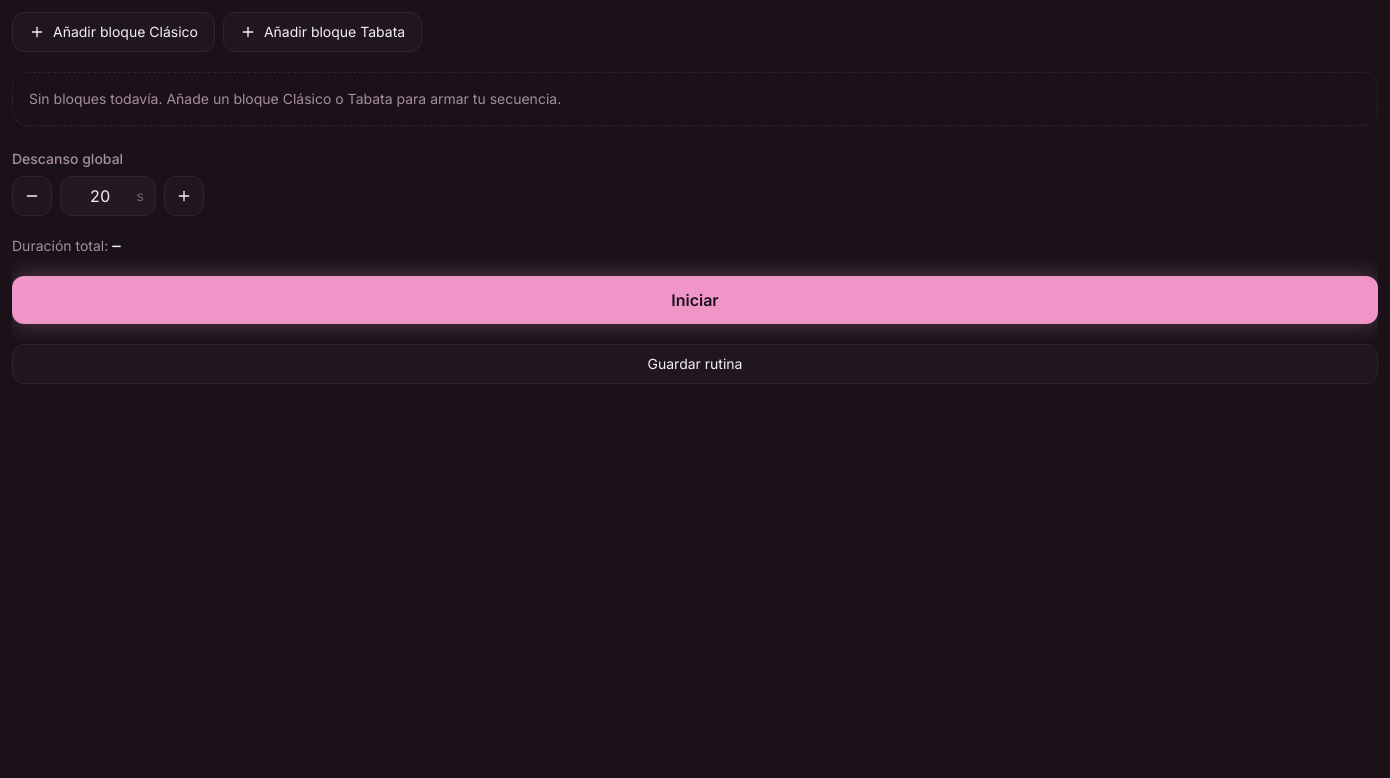
it: PersonalizadoBuilder — estado y UI de bloques › elimina un bloque y deja los demás intactos
The width and height of the screenshot is (1390, 778).
Click the button "Añadir bloque Clásico" at (113, 32), box [12,12,215,52]
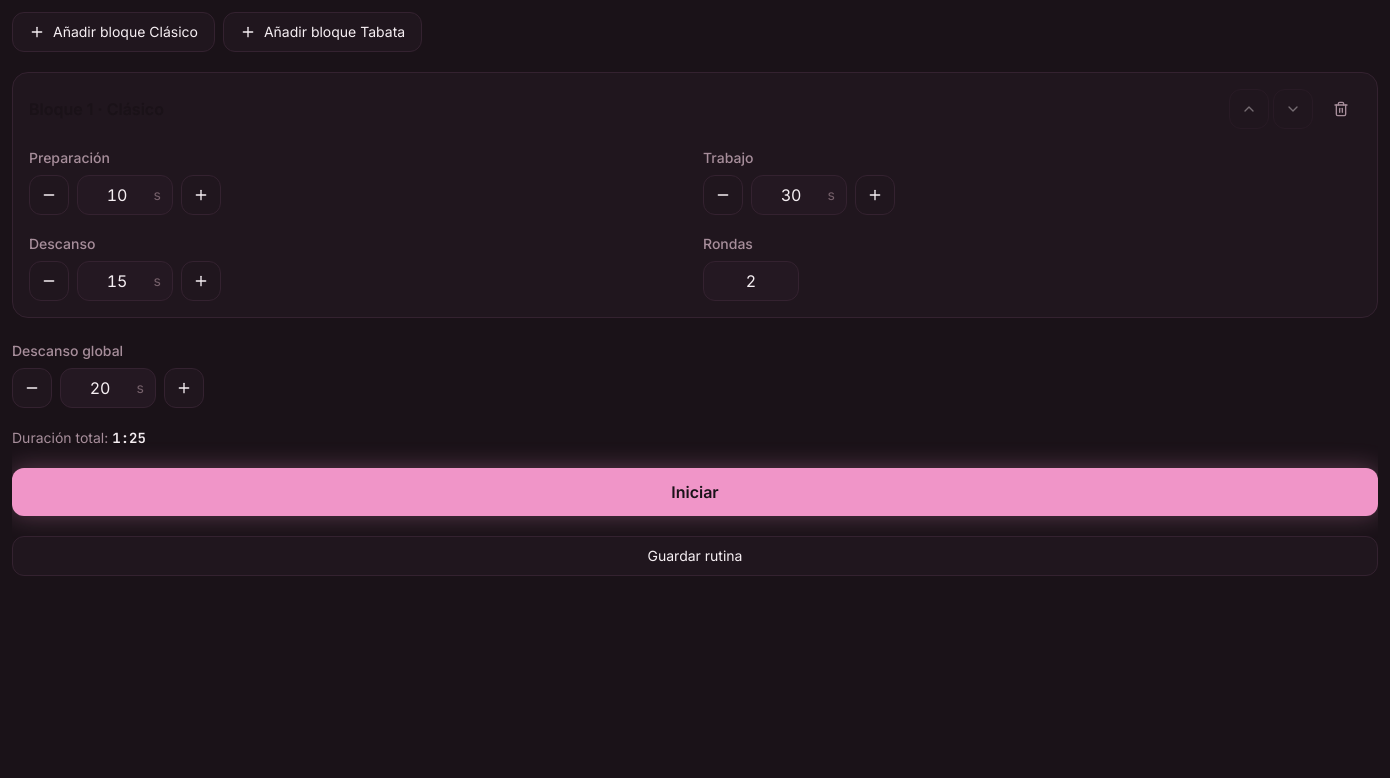
Click the button "Añadir bloque Tabata" at (322, 32), box [223,12,422,52]
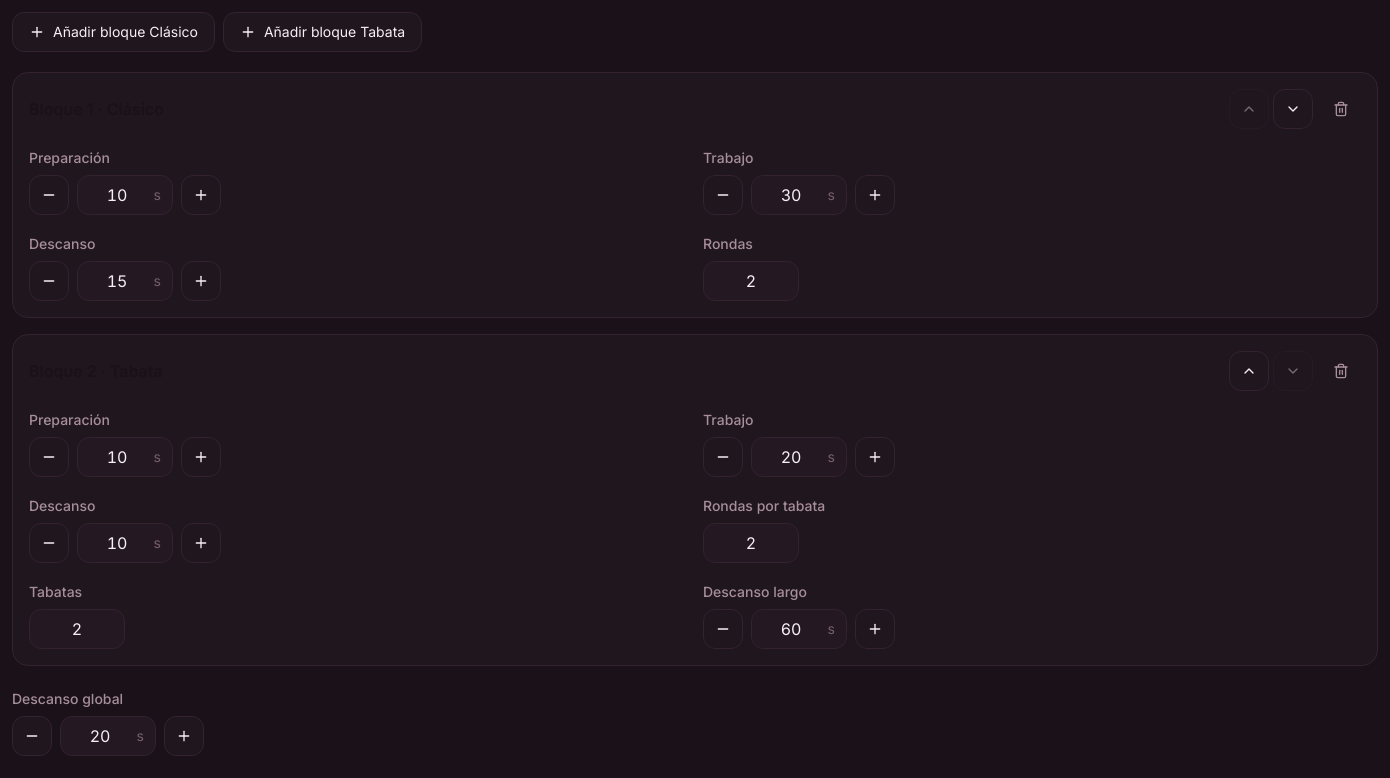
Click the button named "Eliminar bloque 1" at (1341, 109), box [1321,89,1361,129]
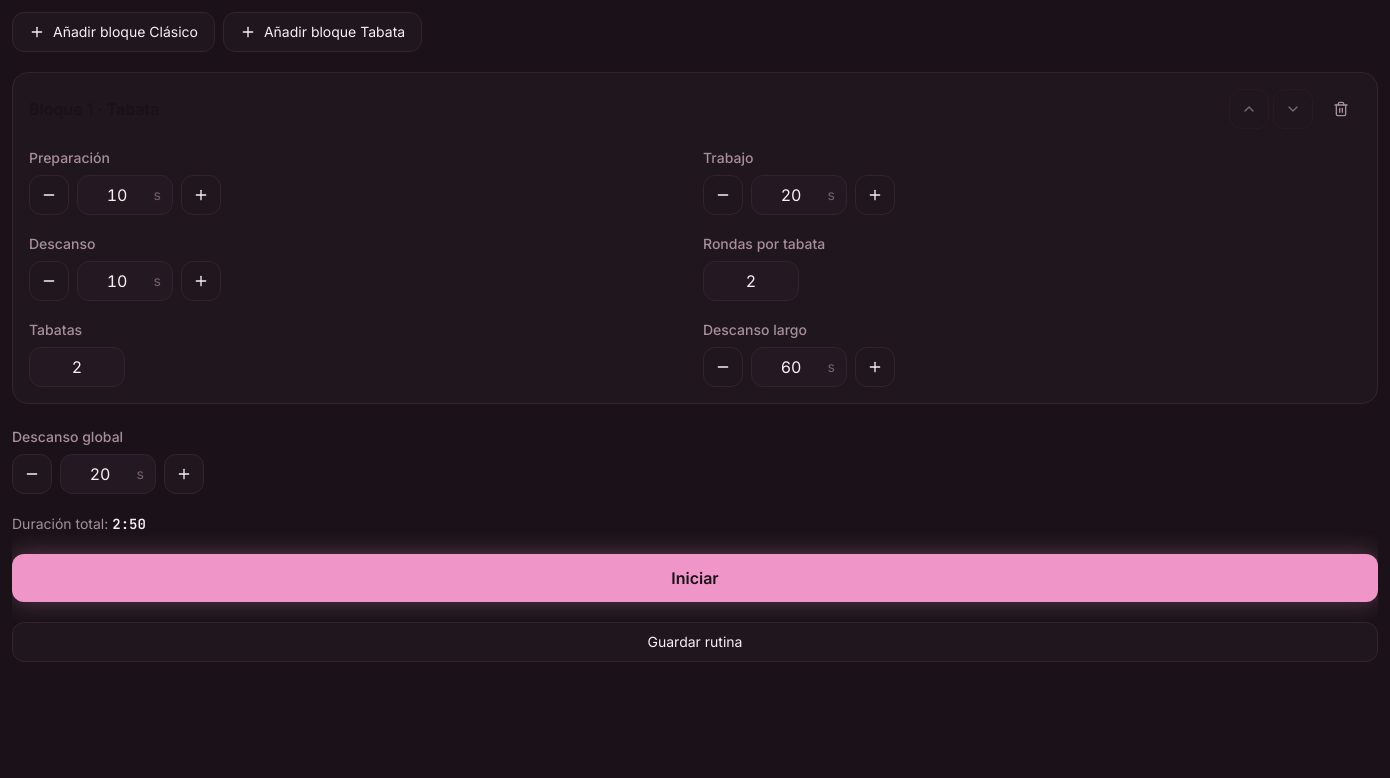
Now the heading "Bloque 2 · Tabata" is gone
